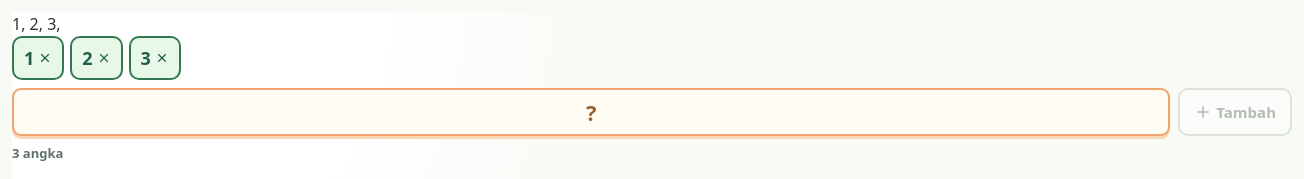
Test: ListInput › tombol Tambah mati saat kotak kosong; ketuk kartu menghapus angka
This screenshot has width=1304, height=179.
Check: the button "Tambah" is disabled, box [1178,88,1292,136]
Step 1. Click the button named "Hapus 2" → (96,58), box [70,36,123,80]
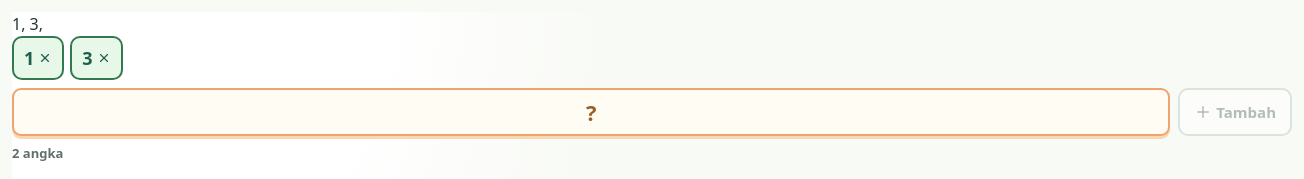
Check: the text "2 angka" is shown, box [12,144,63,162]
